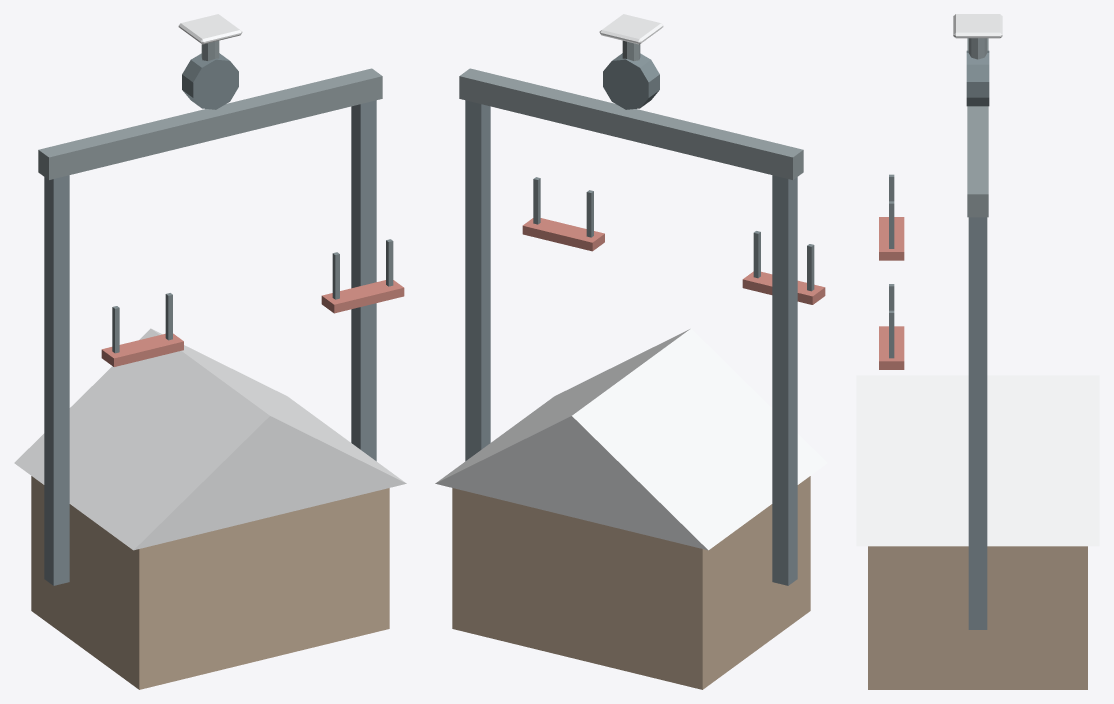
File: ski_lift_summit_near-tvDIbrKm.glb
The picture shows the model from 3 angles, left to right: view 1: azimuth 30°, elevation 25°; view 2: azimuth 150°, elevation 25°; view 3: azimuth 270°, elevation 25°; orthographic projection.
Visible parts, largest first — view 1: ski_lift_summit_near; view 2: ski_lift_summit_near; view 3: ski_lift_summit_near.
Boxes of the visible parts, x1,y1,x2,y2 form: ski_lift_summit_near: [14, 14, 406, 689]; ski_lift_summit_near: [435, 14, 827, 689]; ski_lift_summit_near: [856, 14, 1099, 689].
Size of the model in its own units: 10 by 17 by 6.2.
